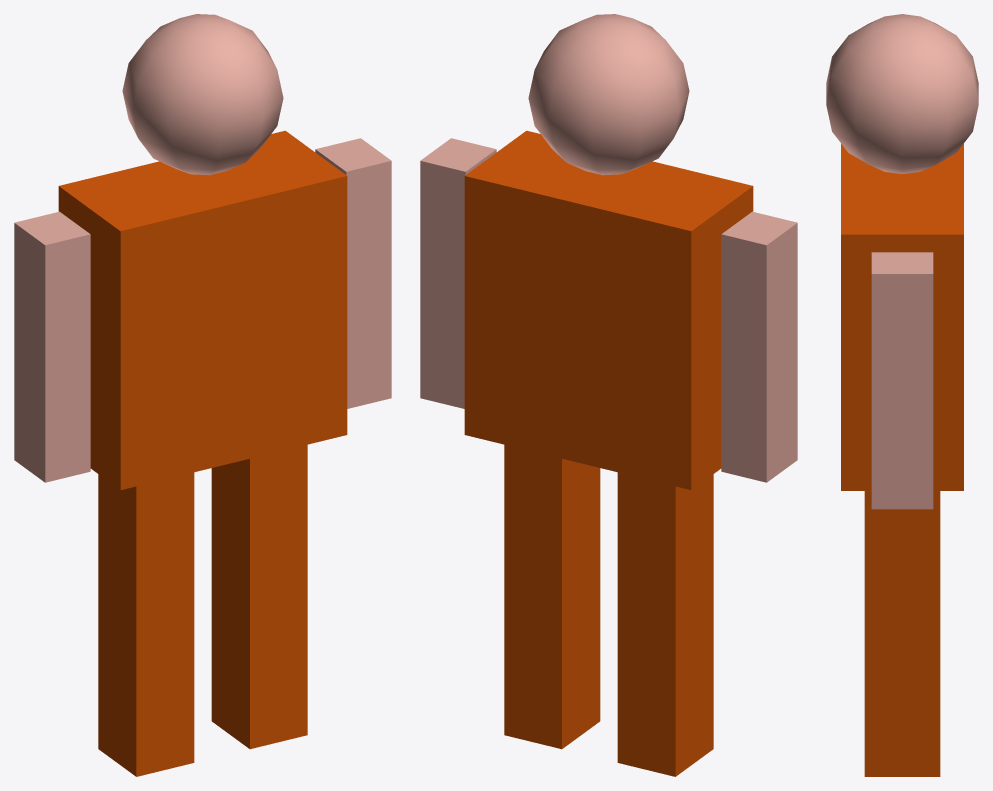
The model's file is ember.glb.
3 renders of one model, left to right at view 1: azimuth 30°, elevation 25°; view 2: azimuth 150°, elevation 25°; view 3: azimuth 270°, elevation 25°, orthographic.
Size of the model in its own units: 0.84 by 1.67 by 0.3234.
